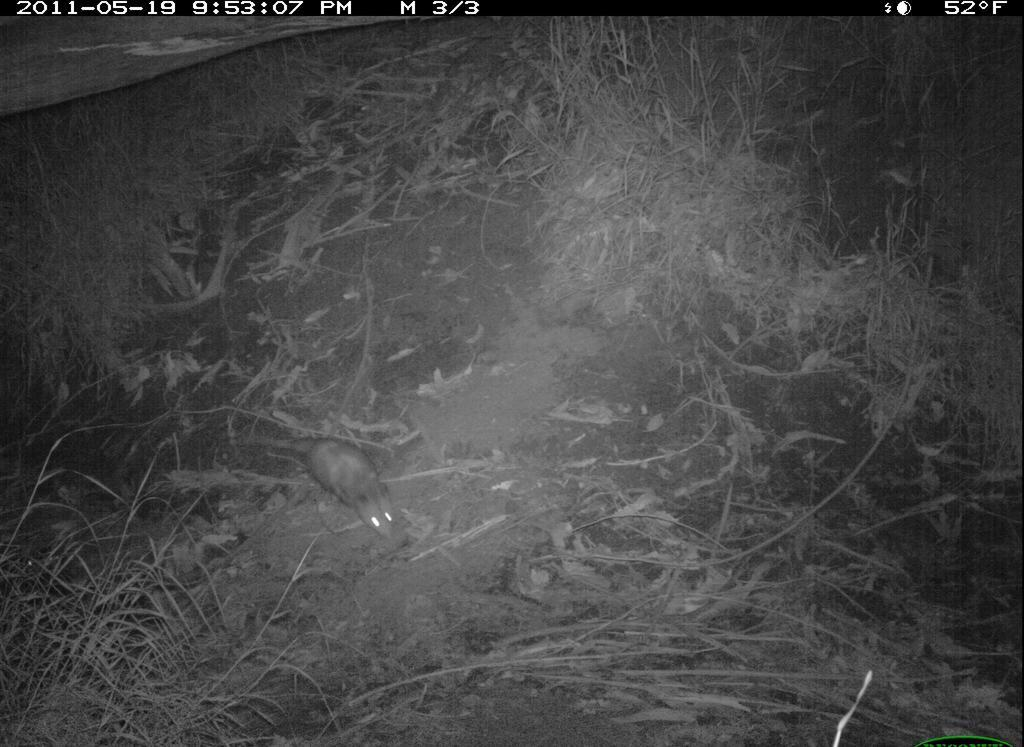opossum: (254, 418, 409, 547)
